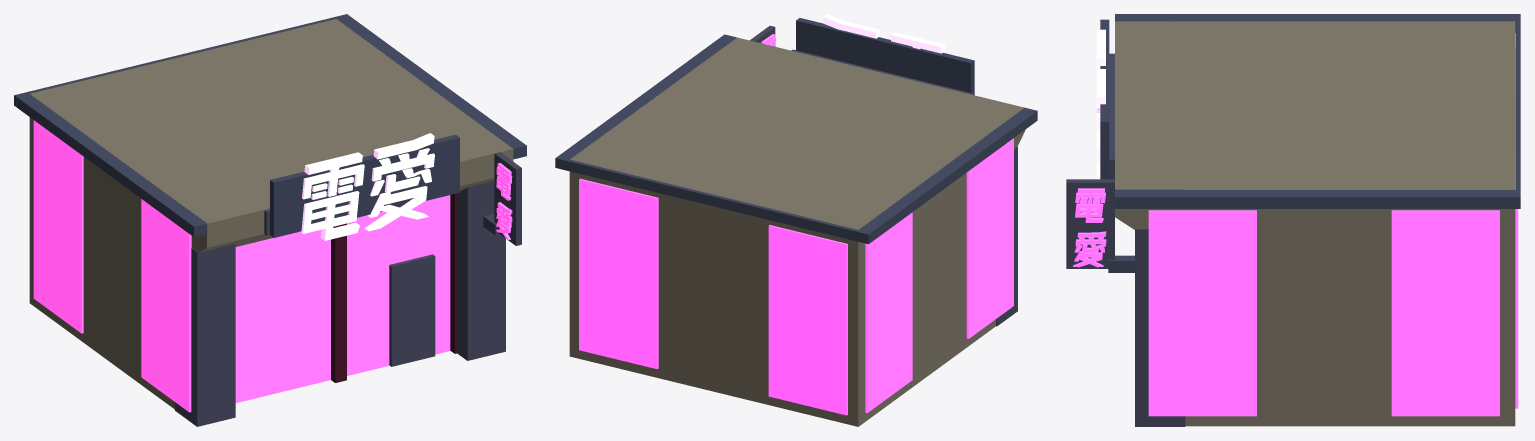
The model's file is love-hotel.glb.
3 views of the same model, side by side, from view 1: azimuth 30°, elevation 25°; view 2: azimuth 150°, elevation 25°; view 3: azimuth 270°, elevation 25° (orthographic). The views are drawn at different scales.
Visible parts, largest first — view 1: Cube.028, Cube.002, Cube.016, Cube.017, Cube.007, Text.002, Cube, Cube.001, Cube.011, Cube.006, Cube.018, Cube.019 (+5 smaller); view 2: Cube.028, Cube.013, Cube.014, Cube.001, Cube.016, Cube.017, Cube.011, Cube.020, Cube.018, Cube.019, Text.002, Cube.007; view 3: Cube.028, Cube.012, Cube.015, Cube.001, Cube.019, Cube.018, Cube, Cube.008, Text, Cube.011, Cube.020, Text.002 (+3 smaller).
Part boxes in pixels (left/top/right/bottom): Cube.028: left=29, top=19, right=481, bottom=409; Cube.002: left=235, top=195, right=450, bottom=402; Cube.016: left=33, top=120, right=83, bottom=333; Cube.017: left=141, top=199, right=191, bottom=412; Cube.007: left=175, top=244, right=235, bottom=426; Text.002: left=300, top=133, right=434, bottom=240; Cube: left=457, top=181, right=505, bottom=360; Cube.001: left=176, top=126, right=513, bottom=252; Cube.011: left=270, top=134, right=459, bottom=237; Cube.006: left=389, top=254, right=435, bottom=366; Cube.018: left=16, top=93, right=207, bottom=237; Cube.019: left=336, top=15, right=526, bottom=159; Cube.028: left=569, top=59, right=995, bottom=426; Cube.013: left=579, top=178, right=658, bottom=369; Cube.014: left=768, top=225, right=847, bottom=415; Cube.001: left=708, top=37, right=1025, bottom=148; Cube.016: left=865, top=212, right=912, bottom=413; Cube.017: left=966, top=138, right=1013, bottom=338; Cube.011: left=796, top=18, right=974, bottom=95; Cube.020: left=555, top=156, right=870, bottom=244; Cube.018: left=859, top=107, right=1037, bottom=242; Cube.019: left=558, top=34, right=736, bottom=159; Text.002: left=823, top=14, right=945, bottom=53; Cube.007: left=996, top=146, right=1017, bottom=326; Cube.028: left=1185, top=21, right=1515, bottom=426; Cube.012: left=1148, top=210, right=1256, bottom=416; Cube.015: left=1391, top=210, right=1499, bottom=416; Cube.001: left=1115, top=21, right=1185, bottom=229; Cube.019: left=1115, top=189, right=1515, bottom=208; Cube.018: left=1115, top=14, right=1515, bottom=32; Cube: left=1135, top=229, right=1185, bottom=426; Cube.008: left=1066, top=179, right=1114, bottom=268; Text: left=1073, top=188, right=1106, bottom=267; Cube.011: left=1100, top=19, right=1109, bottom=179; Cube.020: left=1515, top=14, right=1520, bottom=208; Text.002: left=1096, top=29, right=1105, bottom=179.
Bounding box in the file's own units: 13.47 × 9.66 × 14.12.
